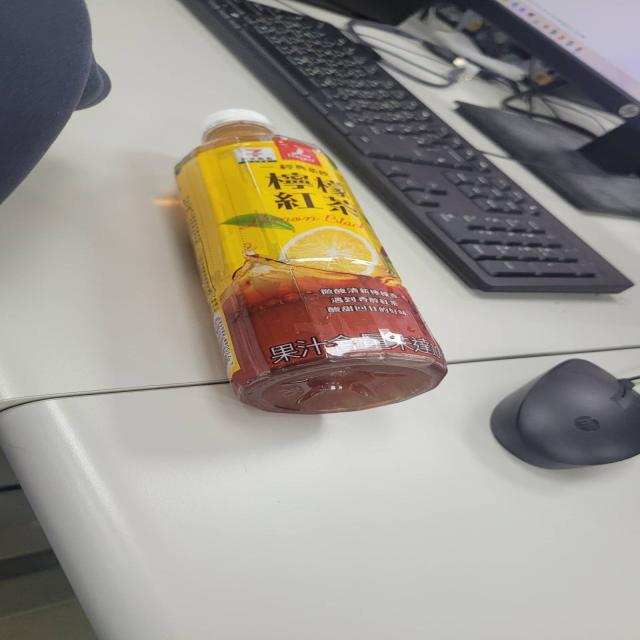PET bottle: (130, 92, 470, 424)
